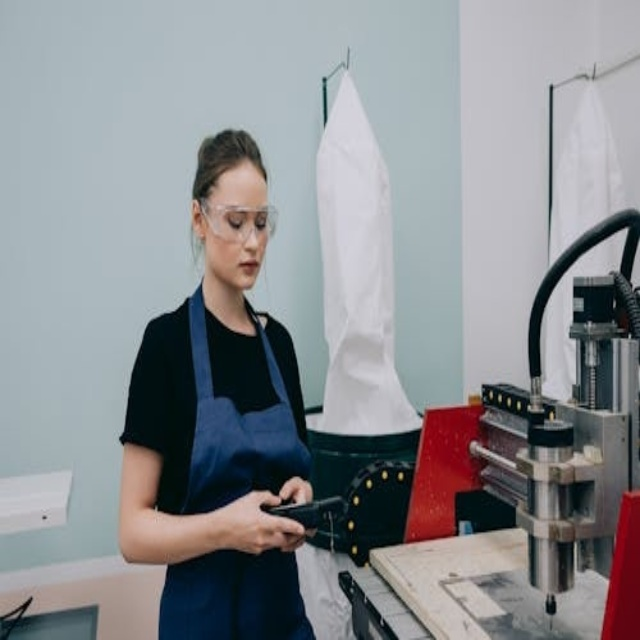Gafas: (193, 188, 279, 244)
Sin_guantes: (234, 484, 303, 563), (279, 463, 312, 507)
Sin_mascara: (233, 254, 259, 288)
